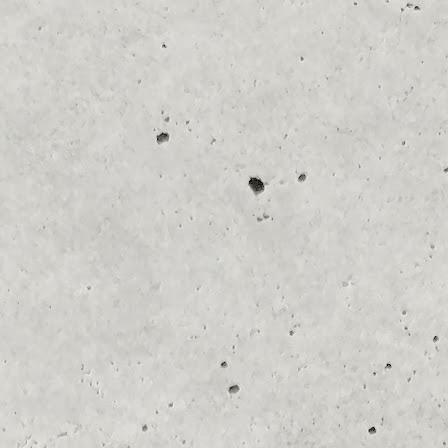spalling: (244, 171, 268, 197), (153, 130, 172, 146)
